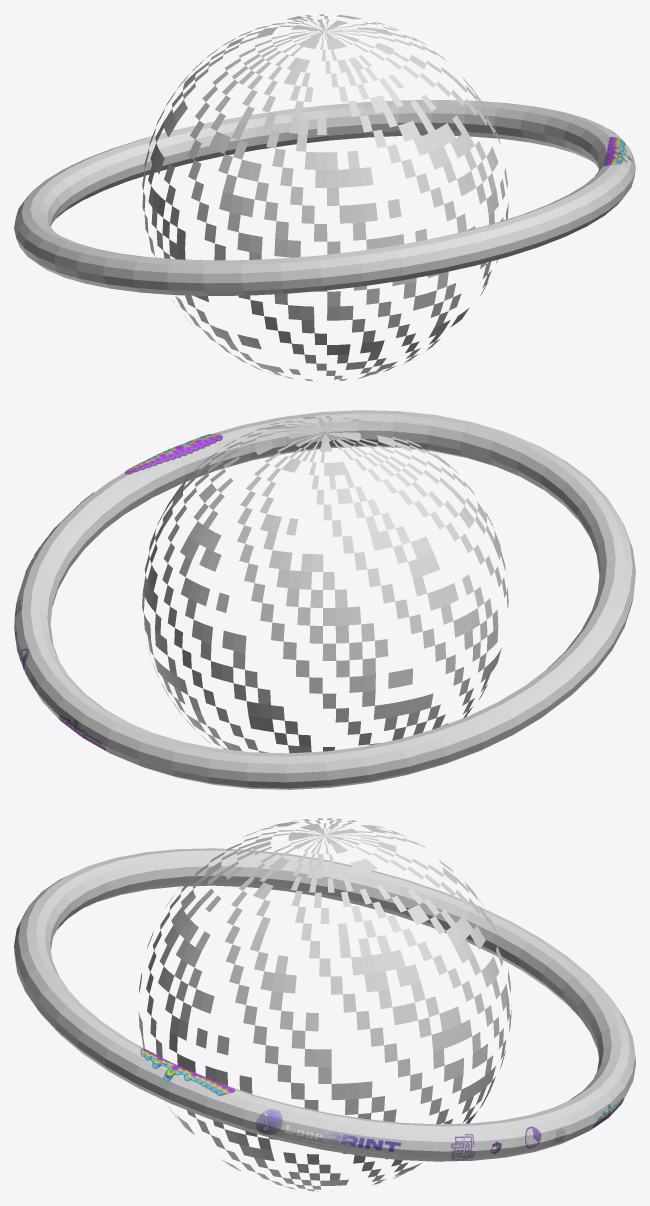
File: sphereV5.1.1.glb
3 views of the same model, one above another, from view 1: azimuth 30°, elevation 25°; view 2: azimuth 150°, elevation 25°; view 3: azimuth 270°, elevation 25° (orthographic).
Visible parts, largest first — view 1: Torus, Sphere; view 2: Torus, Sphere, loopPrint-wave; view 3: Torus, Sphere, loopPrint-header, loopPrint-wave.
Boxes of the visible parts, box(x1,y1,x2,y2) form: Torus: box(14, 100, 635, 295); Sphere: box(142, 14, 508, 381); Torus: box(14, 410, 635, 789); Sphere: box(142, 416, 508, 753); loopPrint-wave: box(124, 433, 222, 474); Torus: box(14, 848, 635, 1161); Sphere: box(138, 818, 511, 1191); loopPrint-header: box(256, 1109, 401, 1156); loopPrint-wave: box(140, 1048, 235, 1095).
Bounding box in the file's own units: 17.02 × 10 × 16.64.
6 materials, 6 textured.
